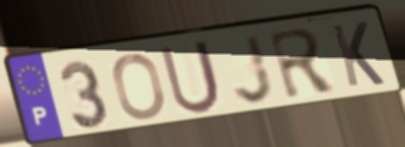3: (57, 57, 111, 132)
J: (231, 32, 277, 107)
K: (328, 19, 388, 90)
O: (110, 51, 168, 122)
R: (265, 25, 340, 102)
U: (156, 37, 224, 117)
